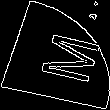M_W: (17, 26, 93, 84)
